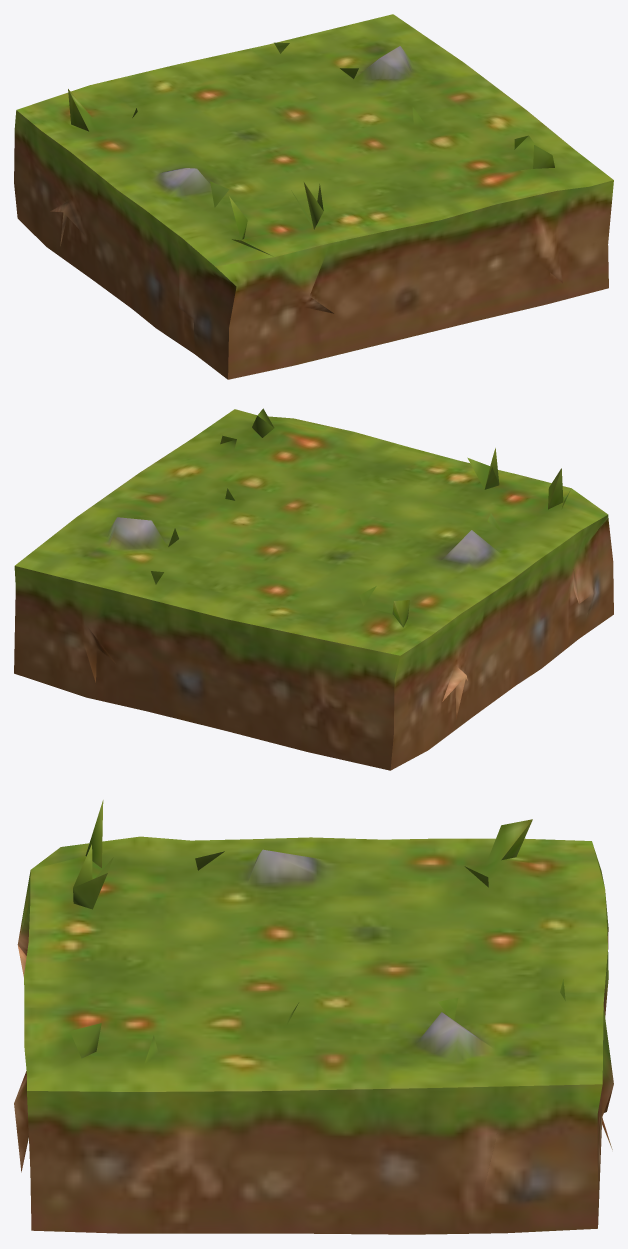
Rendered from b_racines_sol_2.glb.
3 views of the same model, one above another, from view 1: azimuth 30°, elevation 25°; view 2: azimuth 150°, elevation 25°; view 3: azimuth 270°, elevation 25° (orthographic). The views are drawn at different scales.
Parts seen in each view (by area): view 1: geometry_0; view 2: geometry_0; view 3: geometry_0.
Part boxes in pixels (x1,y1,x2,y2): geometry_0: [14, 14, 613, 379]; geometry_0: [14, 408, 613, 770]; geometry_0: [14, 800, 613, 1234].
Bounding box in the file's own units: 1 × 0.3863 × 1.
1 material, 1 textured.
